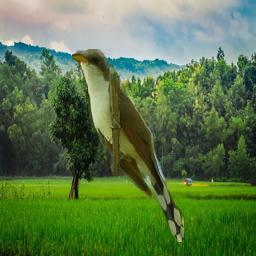Cuckoo: (72, 50, 184, 243)
